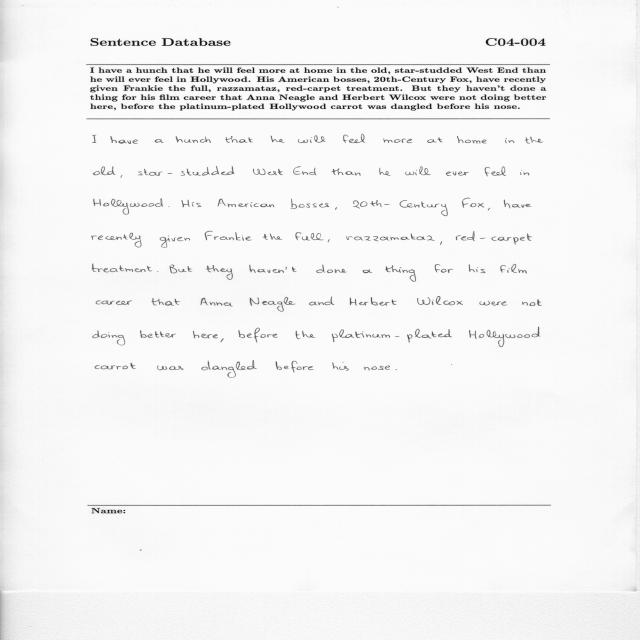word: (332, 329, 452, 343), (353, 200, 448, 216), (469, 327, 540, 347), (94, 198, 163, 215), (456, 231, 532, 245), (201, 360, 257, 378), (138, 166, 234, 176), (92, 233, 142, 248), (346, 233, 435, 241), (250, 297, 296, 312), (238, 328, 278, 343), (385, 265, 416, 282), (92, 264, 152, 272), (93, 331, 125, 346), (205, 231, 252, 241), (276, 361, 314, 373), (218, 199, 274, 207), (350, 297, 397, 306), (417, 297, 463, 306), (206, 265, 233, 280), (291, 199, 329, 209), (250, 265, 297, 273), (160, 236, 190, 248), (200, 298, 233, 307), (140, 330, 176, 338), (500, 264, 527, 274), (295, 232, 324, 241), (316, 265, 347, 273), (95, 363, 136, 369), (176, 136, 211, 143), (457, 136, 487, 144), (405, 167, 431, 176), (332, 168, 361, 176), (151, 298, 180, 306), (309, 297, 334, 306), (110, 136, 138, 144), (298, 135, 326, 143), (504, 200, 532, 208), (462, 198, 484, 208), (485, 167, 506, 177), (294, 167, 317, 176), (169, 265, 192, 274), (193, 331, 218, 339), (343, 134, 365, 143), (94, 167, 116, 176), (225, 136, 253, 143), (253, 169, 283, 175), (96, 300, 132, 305), (435, 264, 453, 273), (182, 200, 202, 208), (332, 362, 349, 371), (296, 331, 315, 339), (469, 265, 485, 274), (480, 301, 508, 306), (522, 299, 542, 306), (157, 366, 184, 371), (263, 233, 282, 240), (364, 366, 390, 371), (525, 137, 543, 144), (383, 139, 413, 143), (446, 171, 469, 176), (271, 136, 285, 143), (427, 137, 443, 143), (379, 168, 391, 176), (520, 171, 530, 176), (505, 138, 514, 143), (363, 269, 373, 273), (155, 139, 164, 143), (93, 135, 97, 143), (220, 338, 224, 342), (328, 239, 330, 243), (440, 241, 442, 245), (121, 175, 123, 178), (335, 207, 337, 210), (488, 208, 490, 210), (168, 206, 170, 207), (395, 369, 397, 370), (157, 272, 159, 272)
